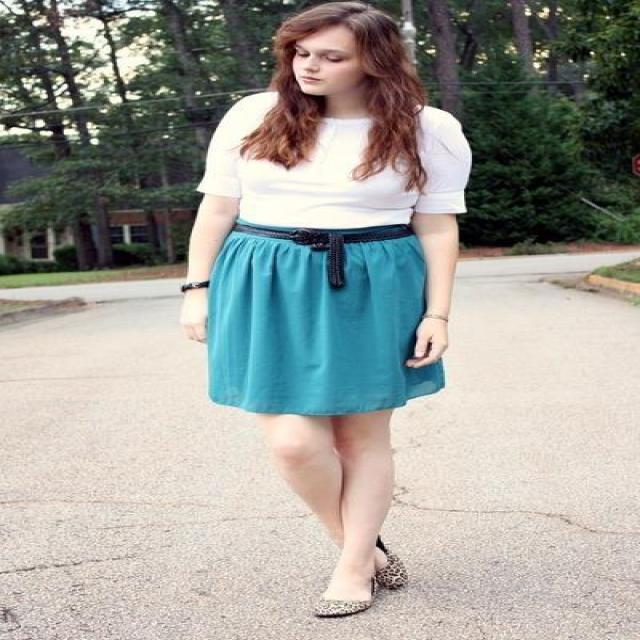shirt: (197, 92, 470, 228)
shoe: (296, 566, 406, 616)
skirt: (203, 218, 443, 417)
